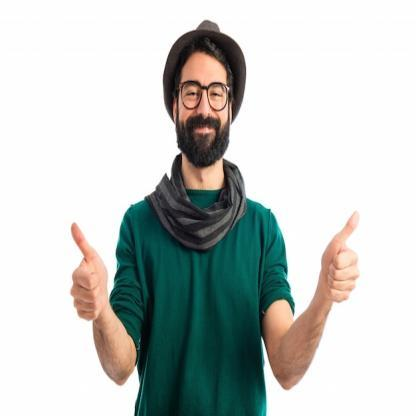thumb_up: (64, 219, 112, 327), (320, 208, 362, 306)
